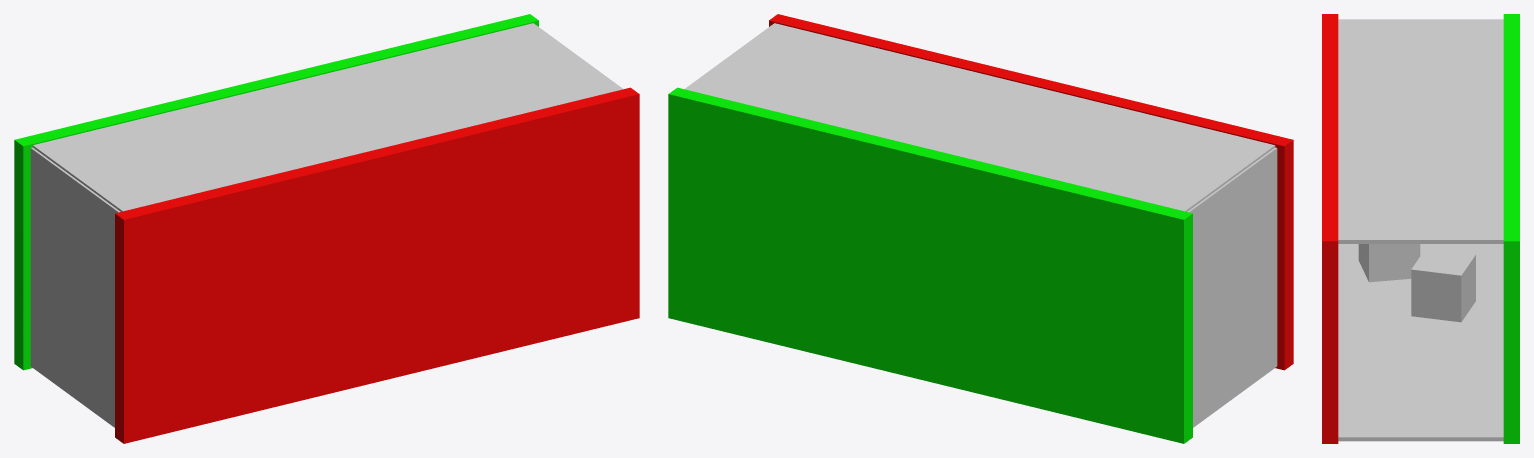
Rendered from MonteCarlo_V1.fbx.
3 views of the same model, side by side, from view 1: azimuth 30°, elevation 25°; view 2: azimuth 150°, elevation 25°; view 3: azimuth 270°, elevation 25° (orthographic). The views are drawn at different scales.
Visible parts, largest first — view 1: leftWall, cornelBox, rightWall; view 2: rightWall, cornelBox, leftWall; view 3: cornelBox, rightWall, leftWall.
Part boxes in pixels (x1,y1,x2,y2): leftWall: (115,87,639,443); cornelBox: (30,23,623,427); rightWall: (14,14,538,370); rightWall: (668,87,1192,443); cornelBox: (684,23,1277,427); leftWall: (769,14,1293,370); cornelBox: (1338,19,1503,441); rightWall: (1503,14,1519,443); leftWall: (1322,14,1338,443).
Size of the model in its own units: 871 by 362 by 320.
